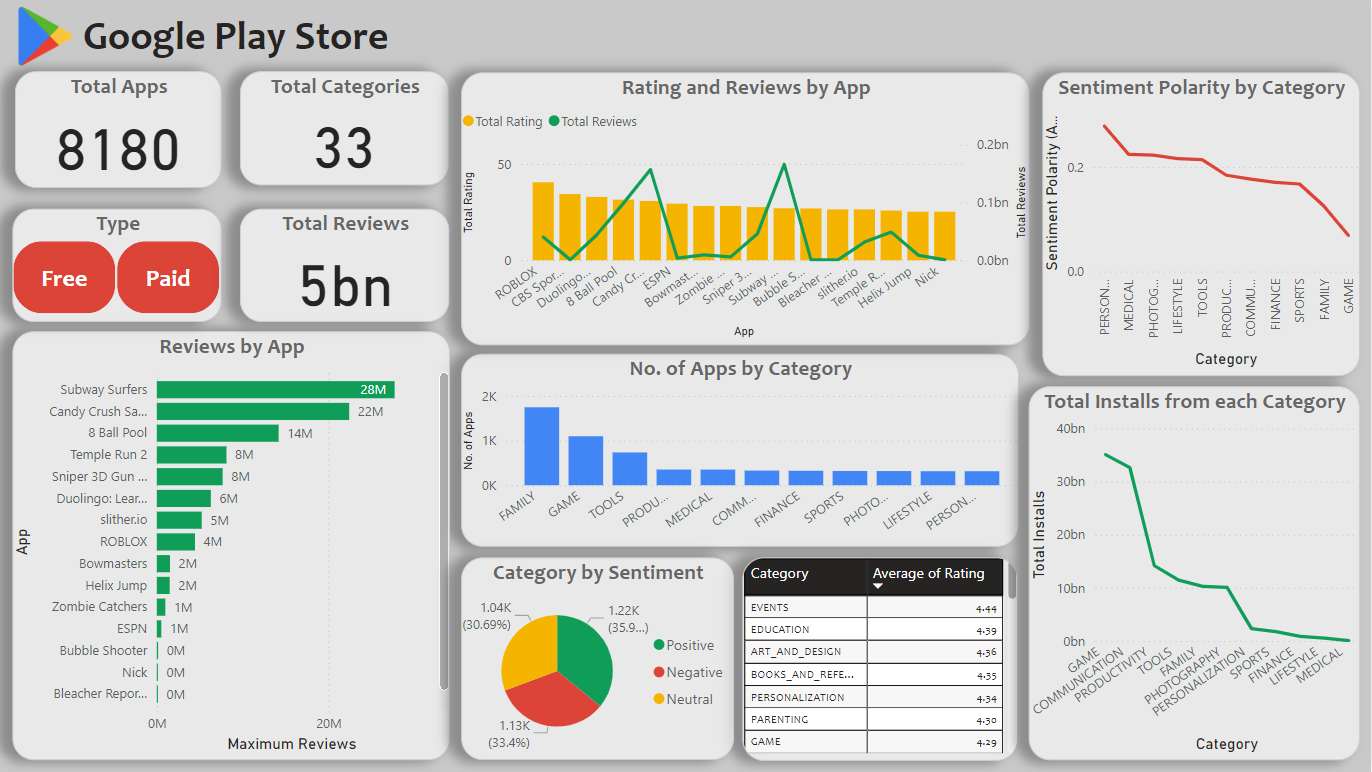

The dashboard page shown, as its layout file describes it:
{"tool":"powerbi","page":{"name":"Page 1","canvas":[1280,720],"ordinal":0},"visuals":[{"type":"textbox","box":[0,0,1280.2,66.8],"z":0},{"type":"card","title":"Total Apps","fields":{"Values":["googleplaystore.Total App"]},"box":[14,67,193,109],"z":1000},{"type":"card","title":"Total Categories","fields":{"Values":["googleplaystore.Total Categories"]},"box":[224,67,195,106],"z":2000},{"type":"clusteredColumnChart","fields":{"Category":["googleplaystore.Category"],"Y":["CountNonNull(googleplaystore.App)"]},"box":[430,330,520,180],"z":3000},{"type":"lineClusteredColumnComboChart","title":"Rating and Reviews by App","fields":{"Category":["googleplaystore.App"],"Y2":["Sum(googleplaystore.Reviews)"],"Y":["Sum(googleplaystore.Rating)"]},"box":[430,67.1,530,254.3],"z":4000},{"type":"clusteredBarChart","title":"Reviews by App","fields":{"Category":["googleplaystore.App"],"Y":["Max(googleplaystore.Reviews)"]},"box":[11.1,308.9,407.8,400],"z":5000},{"type":"tableEx","fields":{"Values":["googleplaystore.Category","Avg(googleplaystore.Rating)"]},"box":[692.4,519.9,257.1,189.2],"z":6000},{"type":"lineChart","title":"Total Installs from each Category","fields":{"Category":["googleplaystore.Category"],"Y":["Sum(googleplaystore.Installs)"]},"box":[960,360,308.8,348.8],"z":7000},{"type":"lineChart","title":"Sentiment Polarity by Category","fields":{"Category":["googleplaystore.Category"],"Y":["Avg(googleplaystore_user_reviews.Sentiment_Polarity)"]},"box":[972.9,67.1,295.7,282.9],"z":8000},{"type":"pieChart","title":"Category by Sentiment","fields":{"Category":["googleplaystore_user_reviews.Sentiment"],"Y":["CountNonNull(googleplaystore.Category)"]},"box":[430,520,254.3,188.6],"z":9000},{"type":"advancedSlicerVisual","fields":{"Values":["googleplaystore.Type"]},"box":[11.1,194.4,195.6,105.6],"z":10000},{"type":"card","title":"Total Reviews","fields":{"Values":["Sum(googleplaystore.Reviews)"]},"box":[223.3,194.4,195.6,105.6],"z":11000},{"type":"image","box":[4.8,0,73.6,67.6],"z":12000}]}

Visuals, with their boxes in screenshot pixels (x1, y1, x2, y2), scaled from the page's 1280x720 canvas onto the 1372x772 screenshot:
textbox: Rect(0, 0, 1371, 72)
"Total Apps" card: Rect(15, 72, 222, 189)
"Total Categories" card: Rect(240, 72, 449, 185)
clusteredColumnChart - googleplaystore.Category x CountNonNull(googleplaystore.App): Rect(461, 354, 1018, 547)
"Rating and Reviews by App" lineClusteredColumnComboChart: Rect(461, 72, 1029, 345)
"Reviews by App" clusteredBarChart: Rect(12, 331, 449, 760)
tableEx - googleplaystore.Category x Avg(googleplaystore.Rating): Rect(742, 557, 1018, 760)
"Total Installs from each Category" lineChart: Rect(1029, 386, 1360, 760)
"Sentiment Polarity by Category" lineChart: Rect(1043, 72, 1360, 375)
"Category by Sentiment" pieChart: Rect(461, 558, 733, 760)
advancedSlicerVisual - googleplaystore.Type: Rect(12, 208, 222, 322)
"Total Reviews" card: Rect(239, 208, 449, 322)
image: Rect(5, 0, 84, 72)
